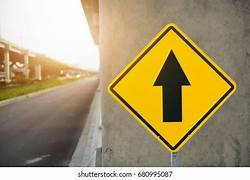forward: (107, 25, 237, 152)
